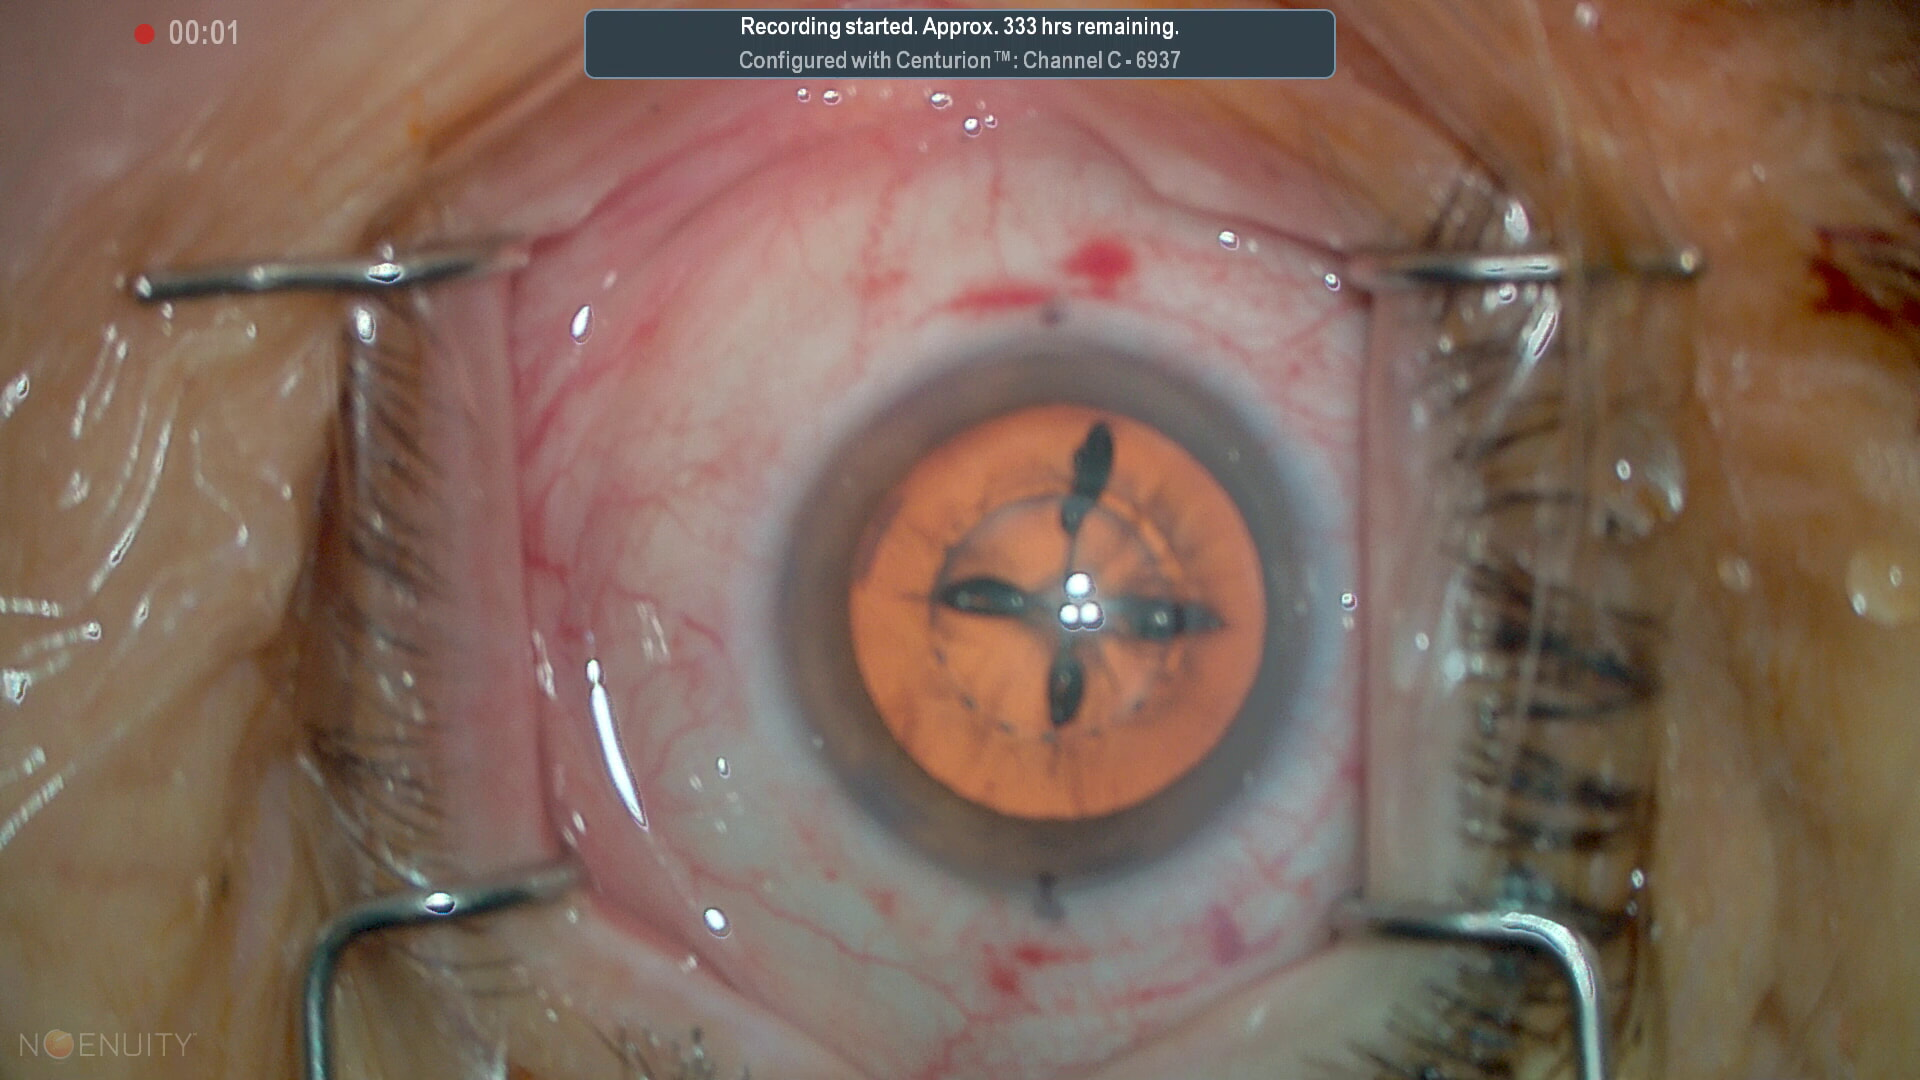iris: (783, 351, 1308, 890)
pupil: (850, 405, 1276, 822)
